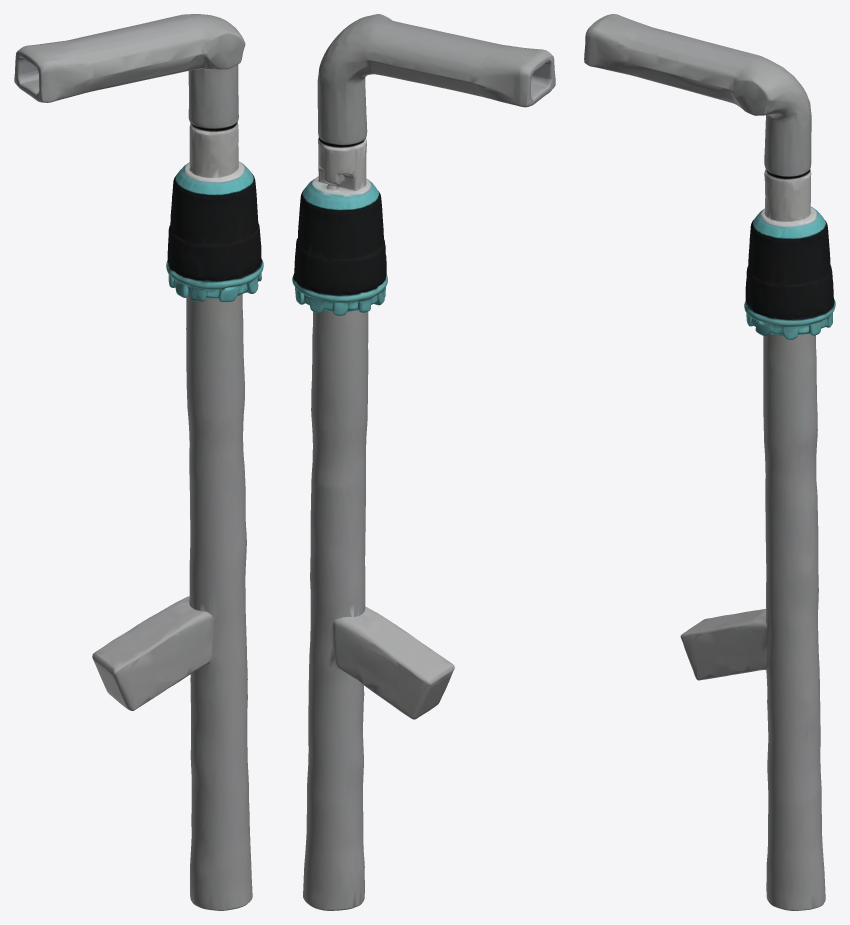
Rendered from telescope-handle.glb.
3 renders of one model, left to right at view 1: azimuth 30°, elevation 25°; view 2: azimuth 150°, elevation 25°; view 3: azimuth 330°, elevation 25°, orthographic. The views are drawn at different scales.
Visible parts, largest first — view 1: tripo_node_d3846efc-3bf0-49a9-8642-2b8f9a570e21; view 2: tripo_node_d3846efc-3bf0-49a9-8642-2b8f9a570e21; view 3: tripo_node_d3846efc-3bf0-49a9-8642-2b8f9a570e21.
Part boxes in pixels (x1,y1,x2,y2): tripo_node_d3846efc-3bf0-49a9-8642-2b8f9a570e21: (14,14,263,910); tripo_node_d3846efc-3bf0-49a9-8642-2b8f9a570e21: (292,14,555,910); tripo_node_d3846efc-3bf0-49a9-8642-2b8f9a570e21: (584,14,835,910).
Size of the model in its own units: 0.2781 by 1 by 0.1033.
1 material, 1 textured.
